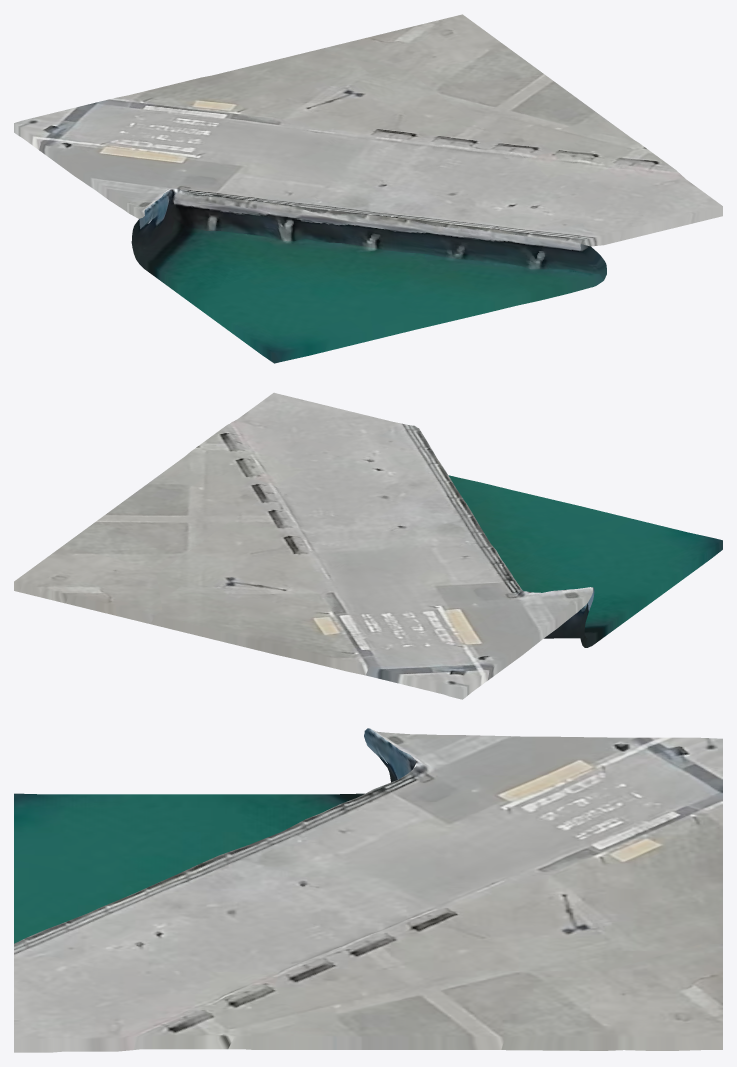
Rendered from z20-167794-405222-h0-yup-uvflip-v3-world.glb.
3 renders of one model, top to bottom at view 1: azimuth 30°, elevation 25°; view 2: azimuth 150°, elevation 25°; view 3: azimuth 270°, elevation 25°, orthographic. The views are drawn at different scales.
Size of the model in its own units: 30.16 by 3.84 by 30.32.
1 material, 1 textured.
